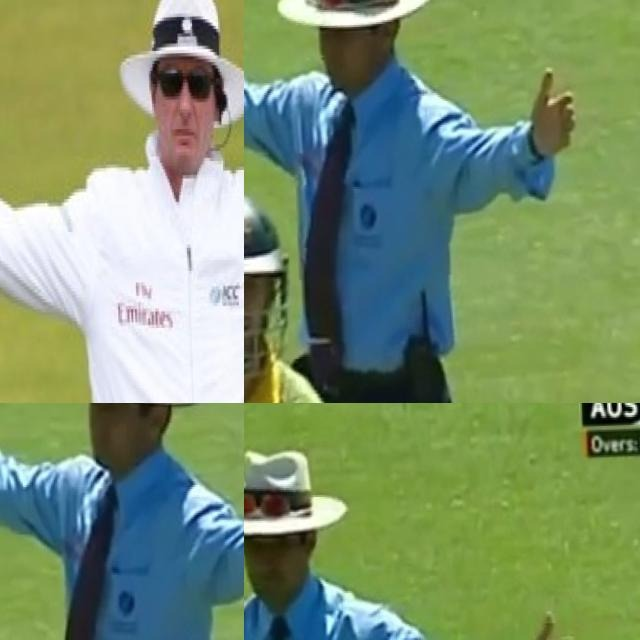No_Ball: (244, 427, 597, 640)
Wide: (0, 0, 244, 403), (244, 0, 593, 273), (0, 403, 244, 640)
